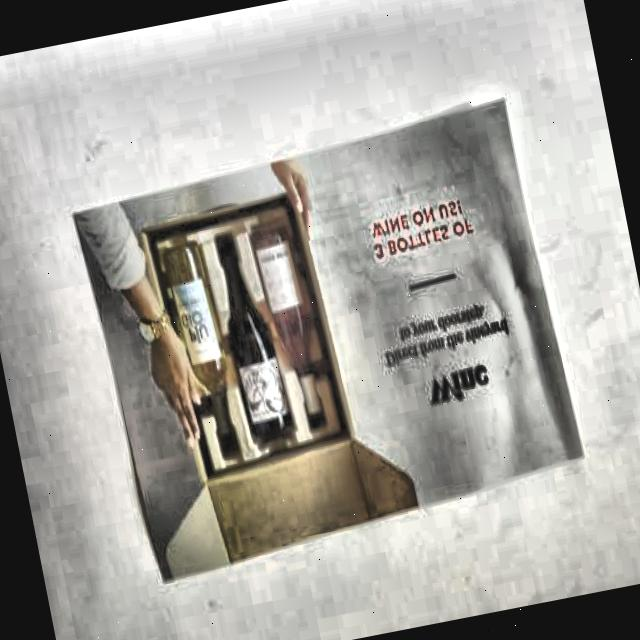paper: (70, 85, 592, 592)
